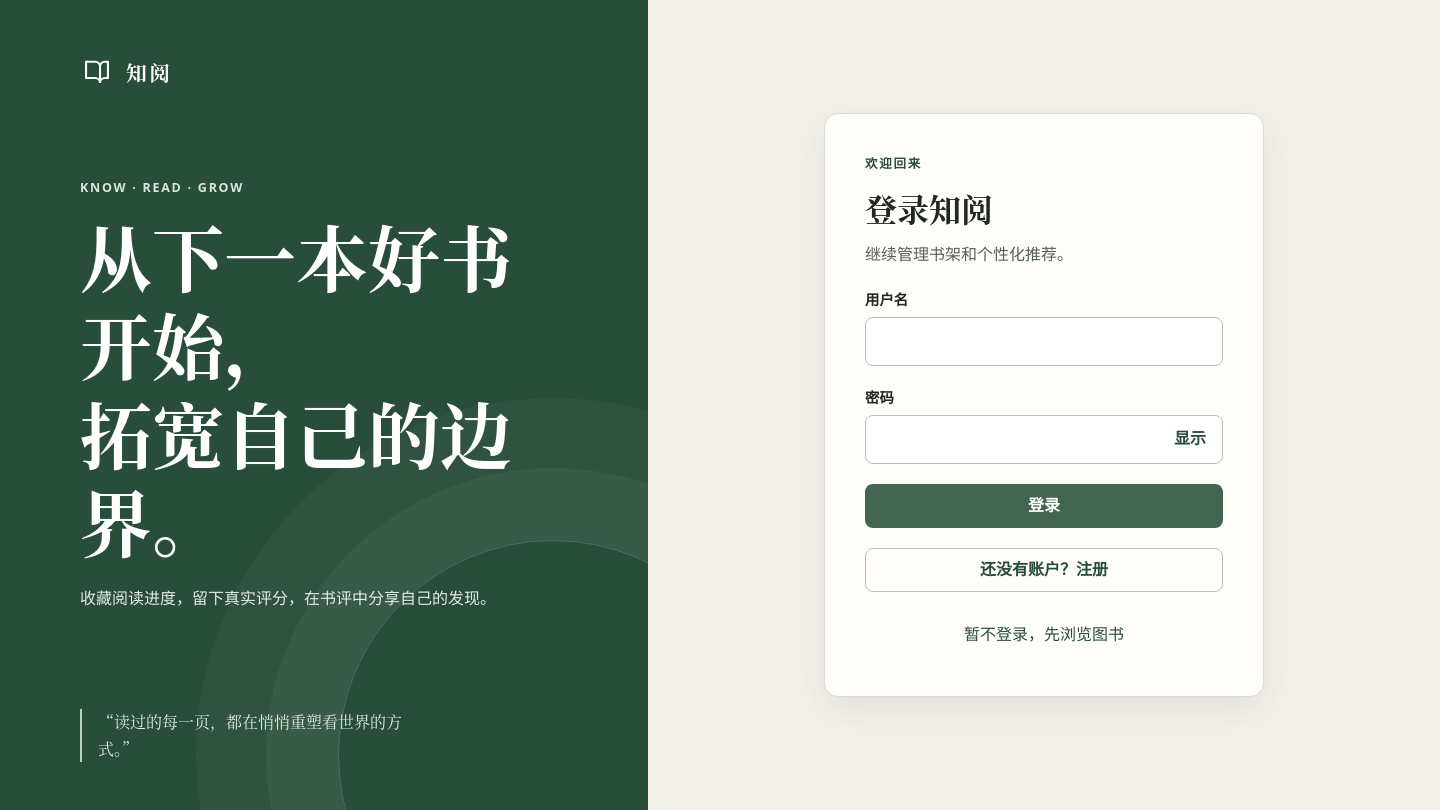
Scenario: LoginView validation › blocks submit with invalid username and password
Submit the form, box [824,113,1264,697]
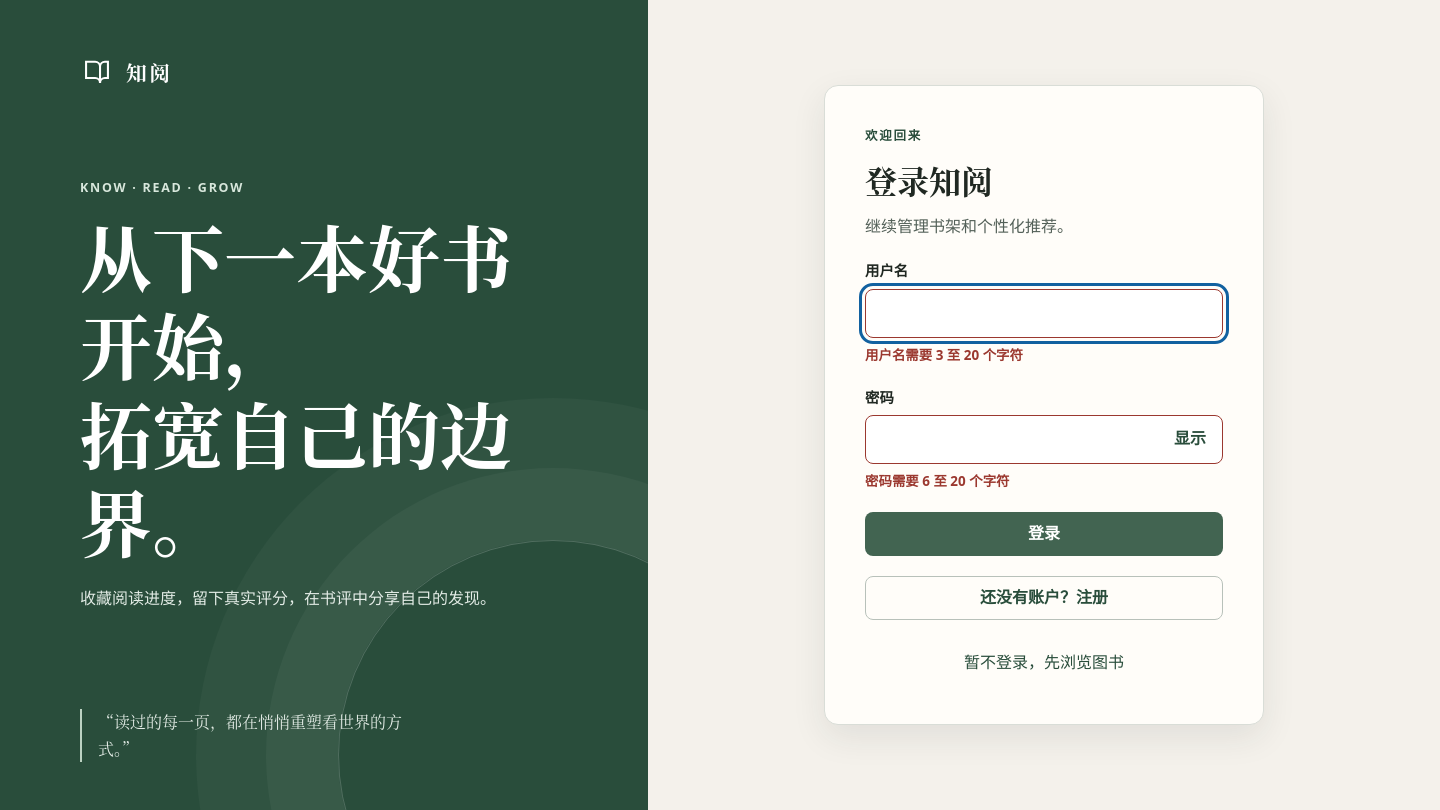
Now the number of messages with class "field-error" is 2, box [865,346,1023,364]; [865,472,1010,490]
Click the button with class "secondary" at {"x": 1044, "y": 598}, box [865,576,1223,620]
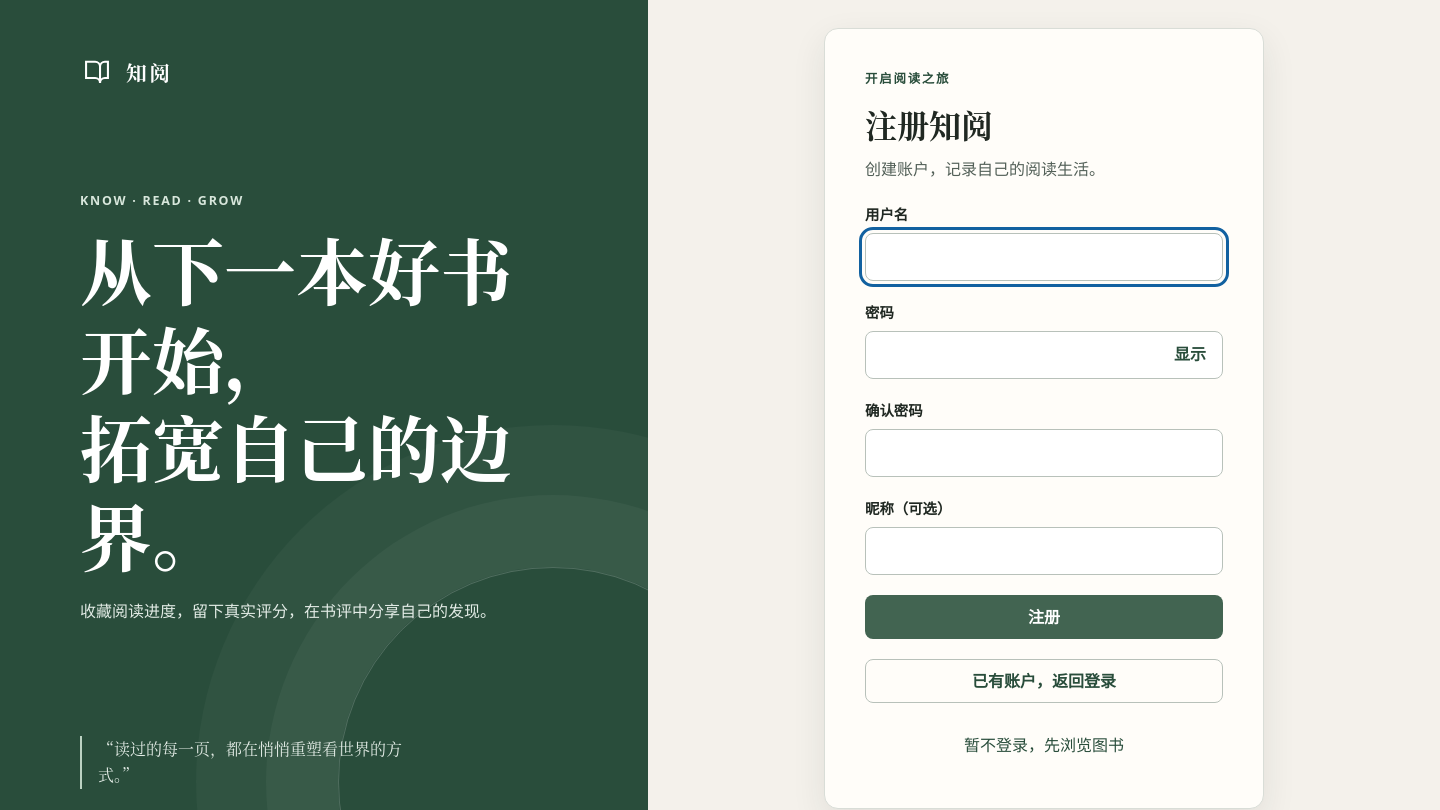
Submit the form, box [824,28,1264,809]
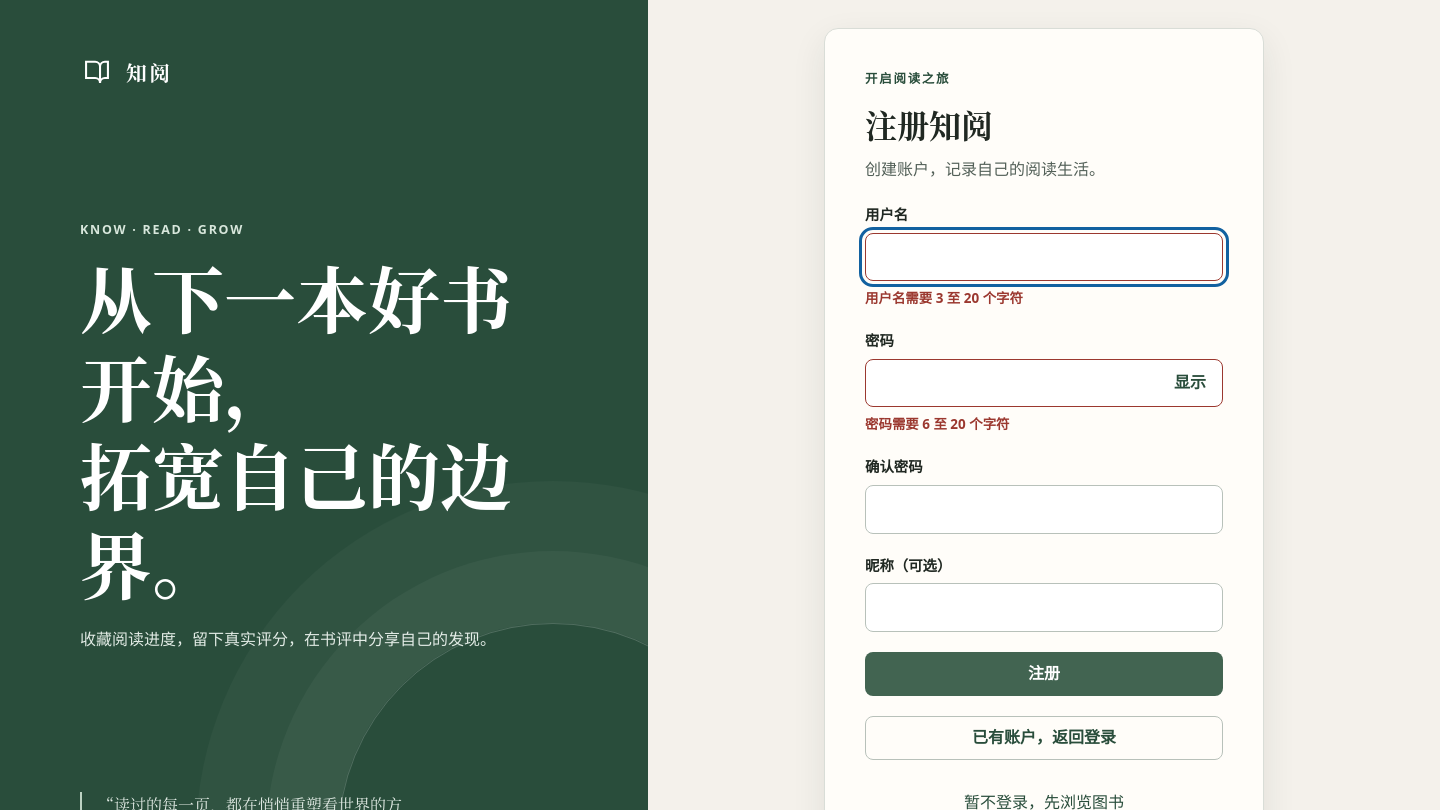
Now the number of messages with class "field-error" is 2, box [865,289,1023,307]; [865,415,1010,433]
